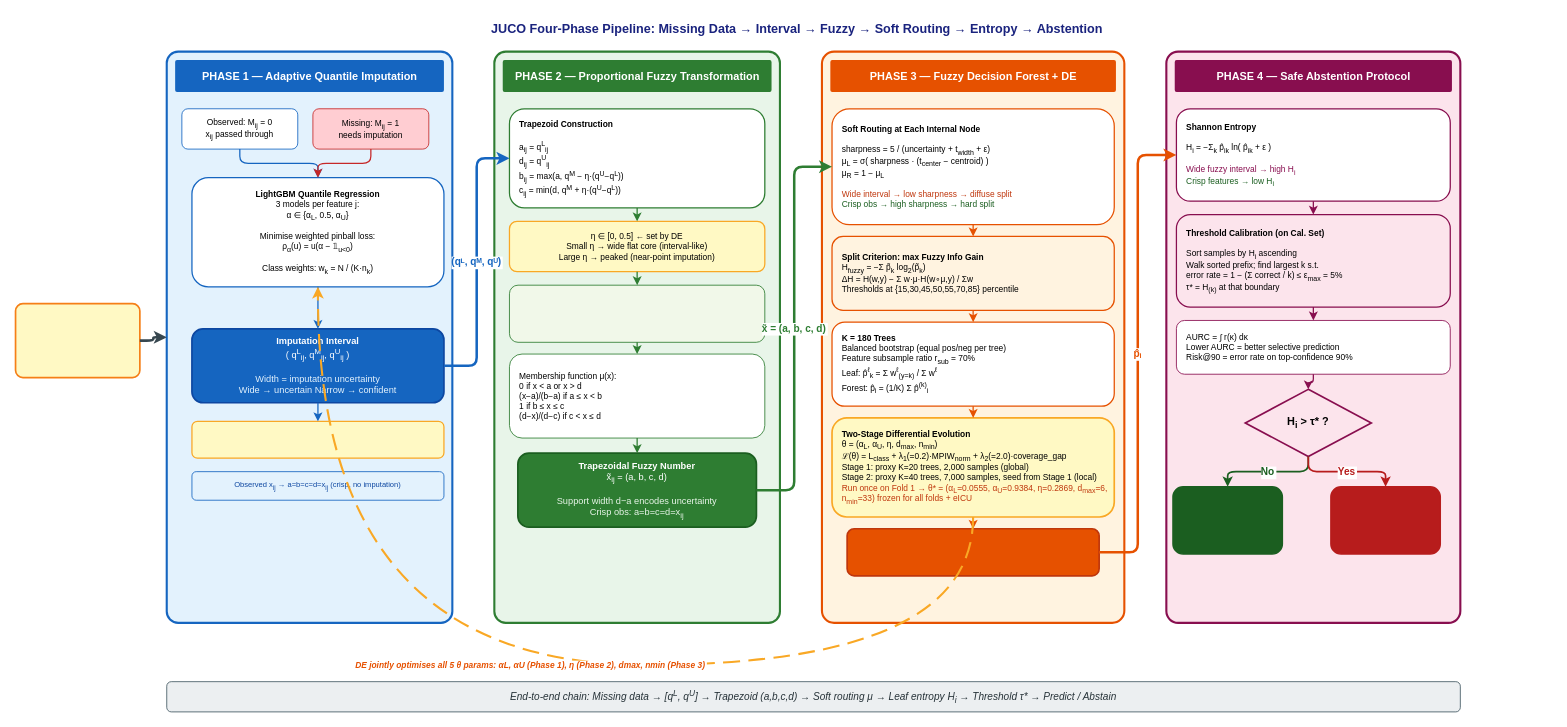
This 1567x727 diagram has some shape labels left out. Here are the shapes that lost their labels. From the top down, the centre of each, then its label:
At (x=637, y=313): "Derived quantities used downstream: centroid = (a+b+c+d) / 4 uncertainty = d − a".
At (x=77, y=340): "EHR Input X ∈ (ℝ ∪ {NaN}) n×d MNAR missingness P(M|x) ≠ P(M)".
At (x=317, y=439): "α L ∈ [0.05, 0.35] α U ∈ [0.65, 0.95] both set by DE (Phase 3)".
At (x=1227, y=520): "PREDICT Issue calibrated risk score p̂ i (AUROC, DCA)".
At (x=1385, y=520): "ABSTAIN Defer to clinician review (AURC metric)".
At (x=973, y=552): "Calibrated Probability Vector p̂ i + isotonic calibration (post-hoc)".
